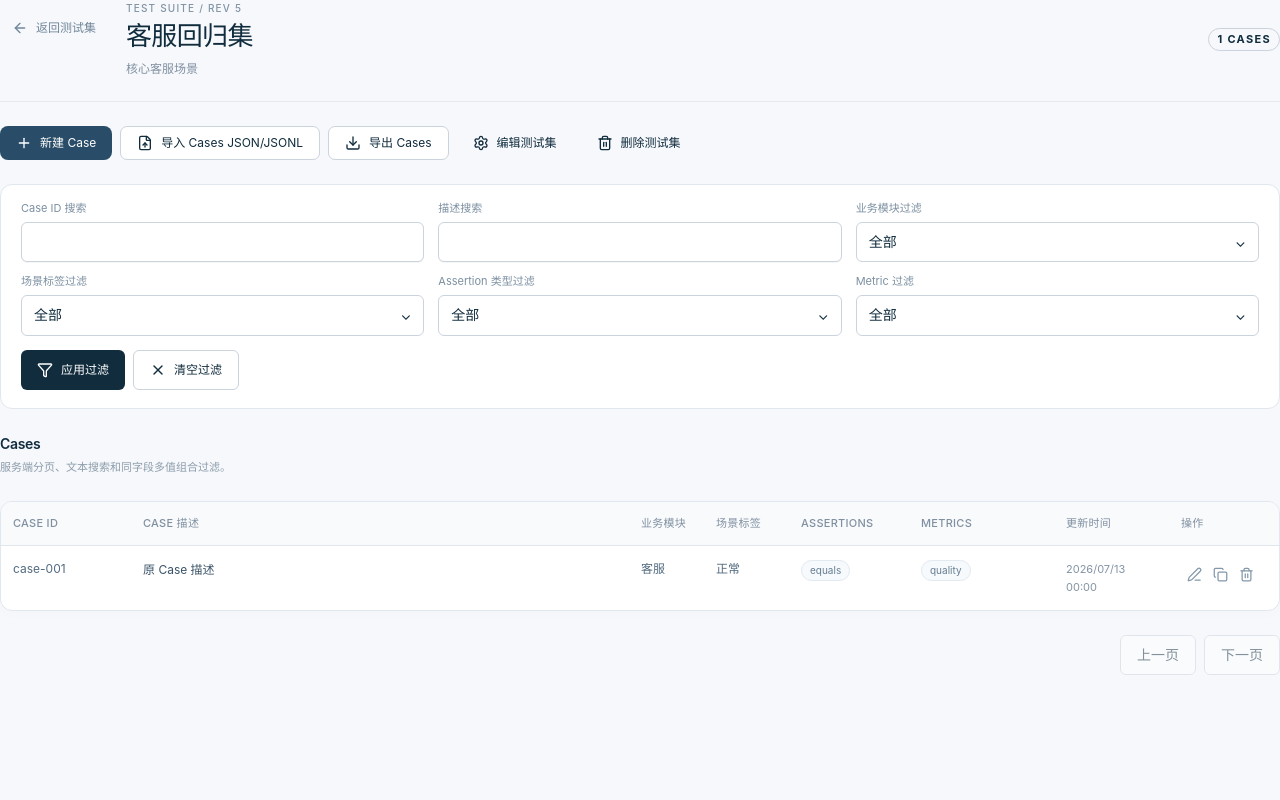
Test: 测试集详情页 Case 资源写操作 › Case DELETE 冲突重试遇到终态失败时在原 owner 显示错误并保留输入
Expected: the heading "客服回归集" is shown, x1=126 y1=20 x2=253 y2=51
Click the button named "删除 case-001": (1246,574) x1=1233 y1=560 x2=1259 y2=588
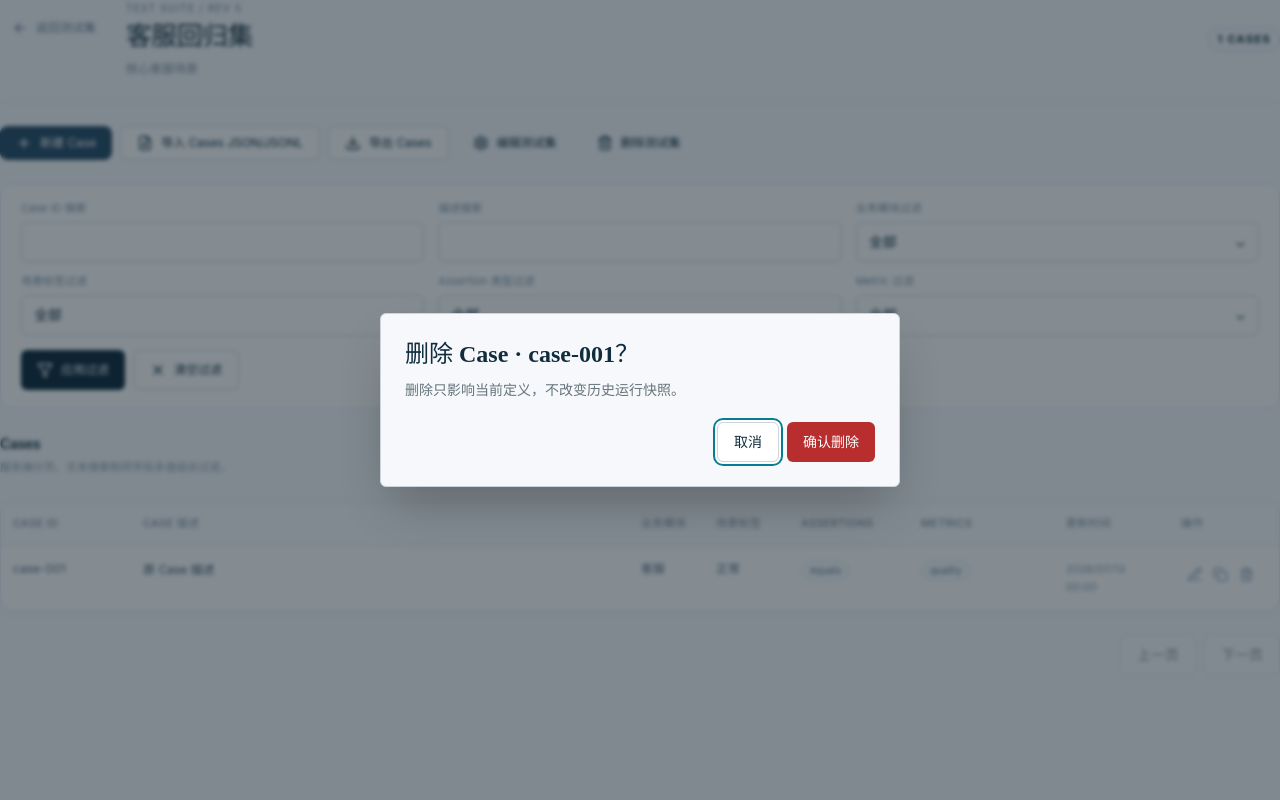
Click the button "确认删除": (831,442) x1=787 y1=422 x2=875 y2=462
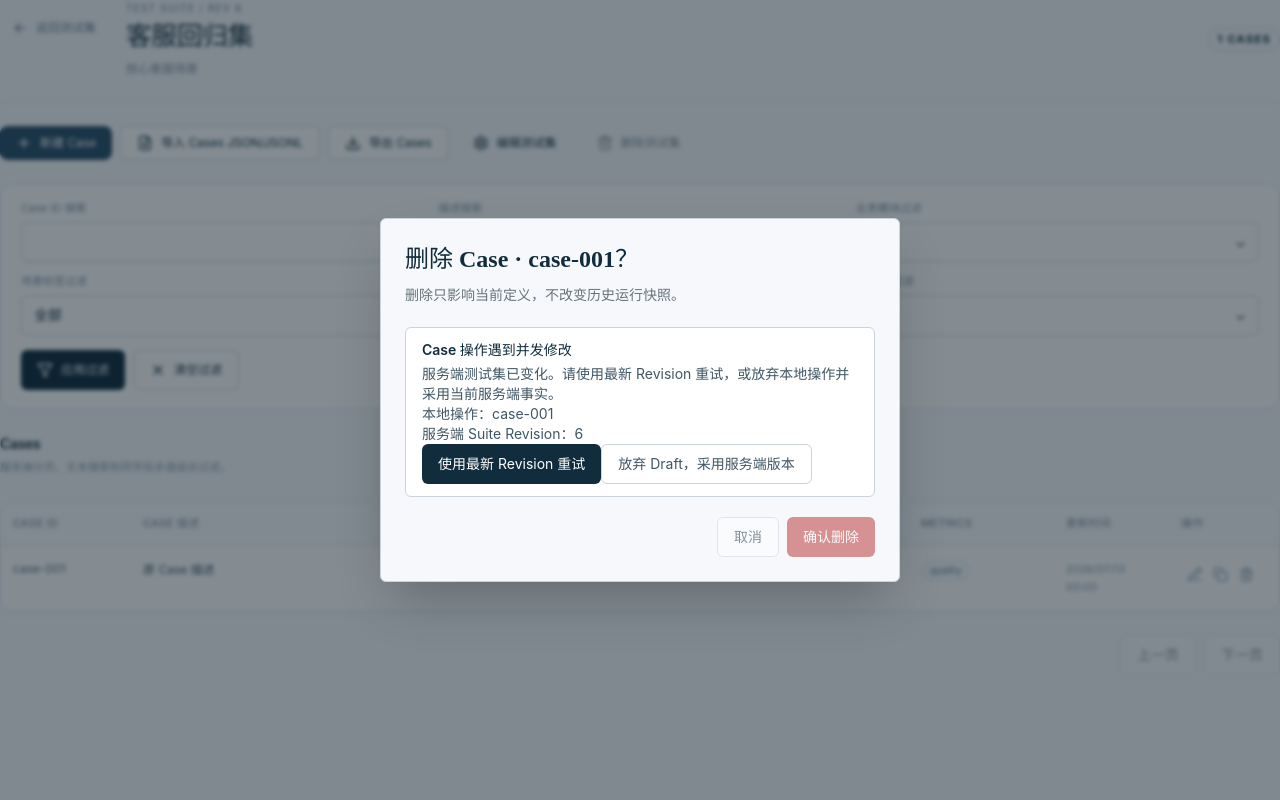
Now the heading "Case 操作遇到并发修改" is shown, box x1=422 y1=341 x2=572 y2=358
Click the button "使用最新 Revision 重试": (512,464) x1=422 y1=444 x2=601 y2=484
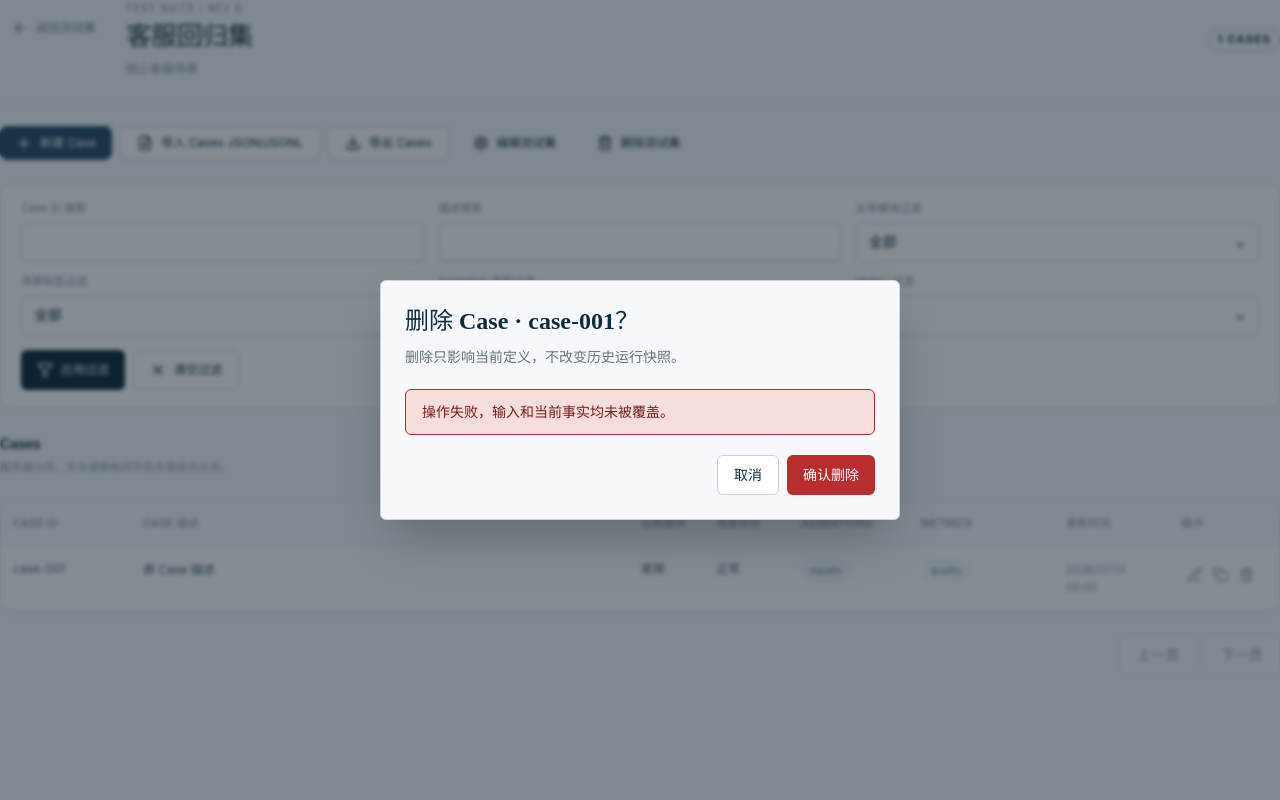
Now the text "删除 Case · case-001？" is shown, box x1=405 y1=308 x2=639 y2=334
Now the heading "Case 操作遇到并发修改" is gone
Now the text "操作失败，输入和当前事实均未被覆盖。" is shown, box x1=422 y1=403 x2=674 y2=420
